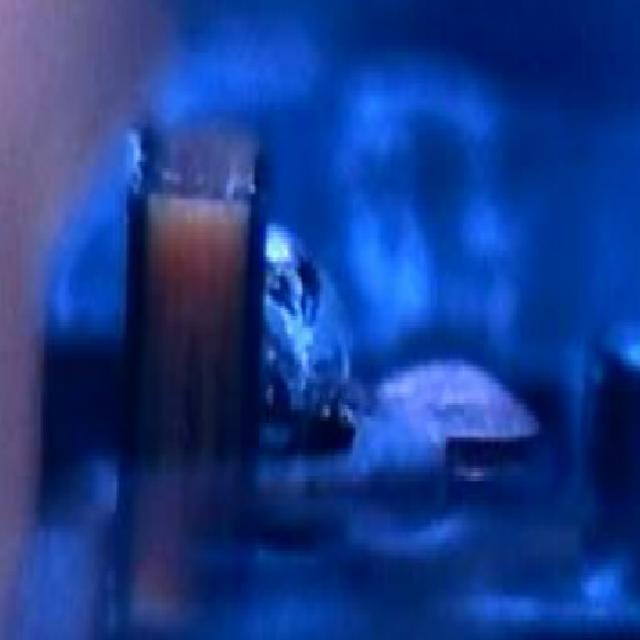Component: (110, 111, 272, 510)
Solder: (252, 205, 373, 471)
